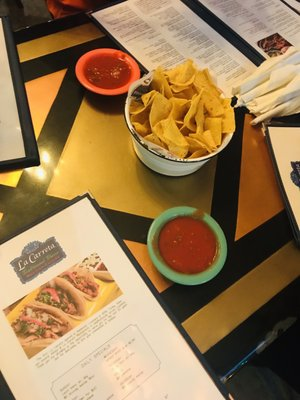sushi: (123, 59, 236, 178), (147, 206, 230, 287), (75, 48, 140, 97)
